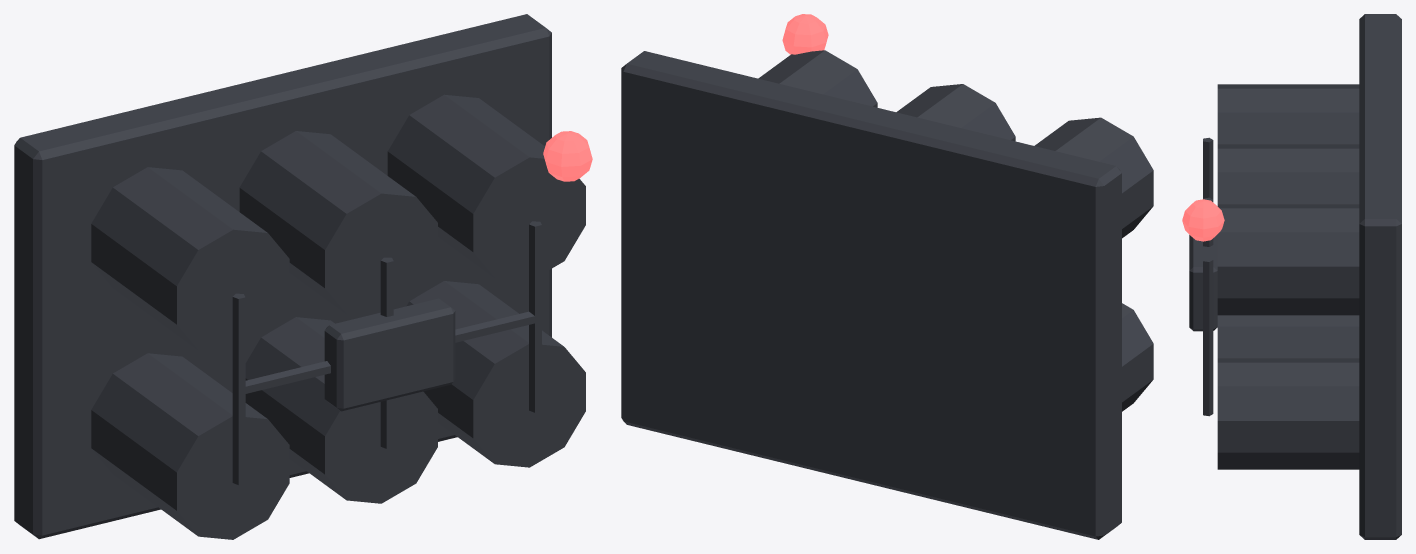
Rendered from KamikazeBomb.fbx.
The picture shows the model from 3 angles, left to right: view 1: azimuth 30°, elevation 25°; view 2: azimuth 150°, elevation 25°; view 3: azimuth 270°, elevation 25°; orthographic projection. The views are drawn at different scales.
Parts seen in each view (by area): view 1: KamikazeBomb; view 2: KamikazeBomb; view 3: KamikazeBomb.
Part boxes in pixels (x1=…): KamikazeBomb: x1=14, y1=14, x2=592, y2=539; KamikazeBomb: x1=621, y1=14, x2=1153, y2=539; KamikazeBomb: x1=1182, y1=14, x2=1401, y2=539.
Bounding box in the file's own units: 0.35 × 0.25 × 0.155.
